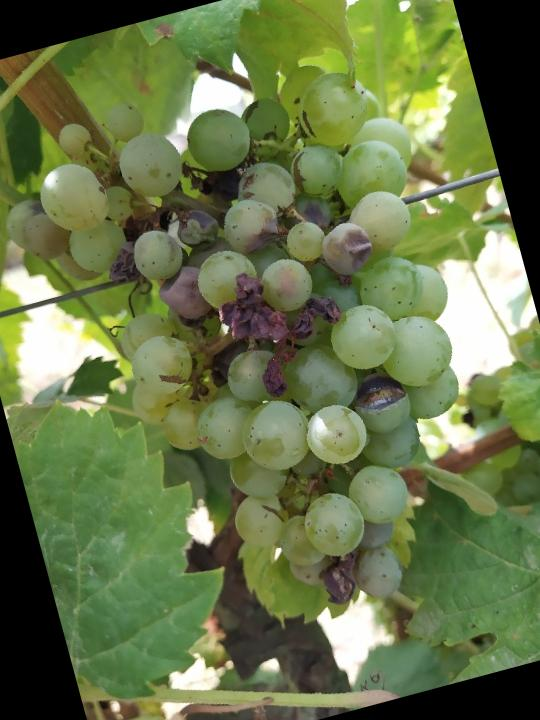grape: (0, 29, 530, 673)
